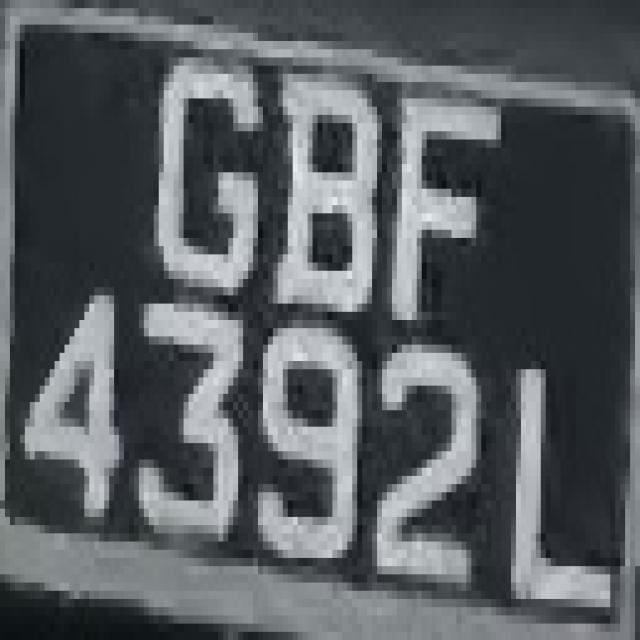2: (372, 304, 496, 590)
3: (139, 255, 253, 574)
4: (25, 246, 139, 542)
9: (238, 279, 372, 591)
B: (263, 66, 377, 337)
F: (387, 74, 501, 336)
G: (139, 33, 263, 312)
L: (506, 348, 622, 619), (4, 4, 5, 8)
